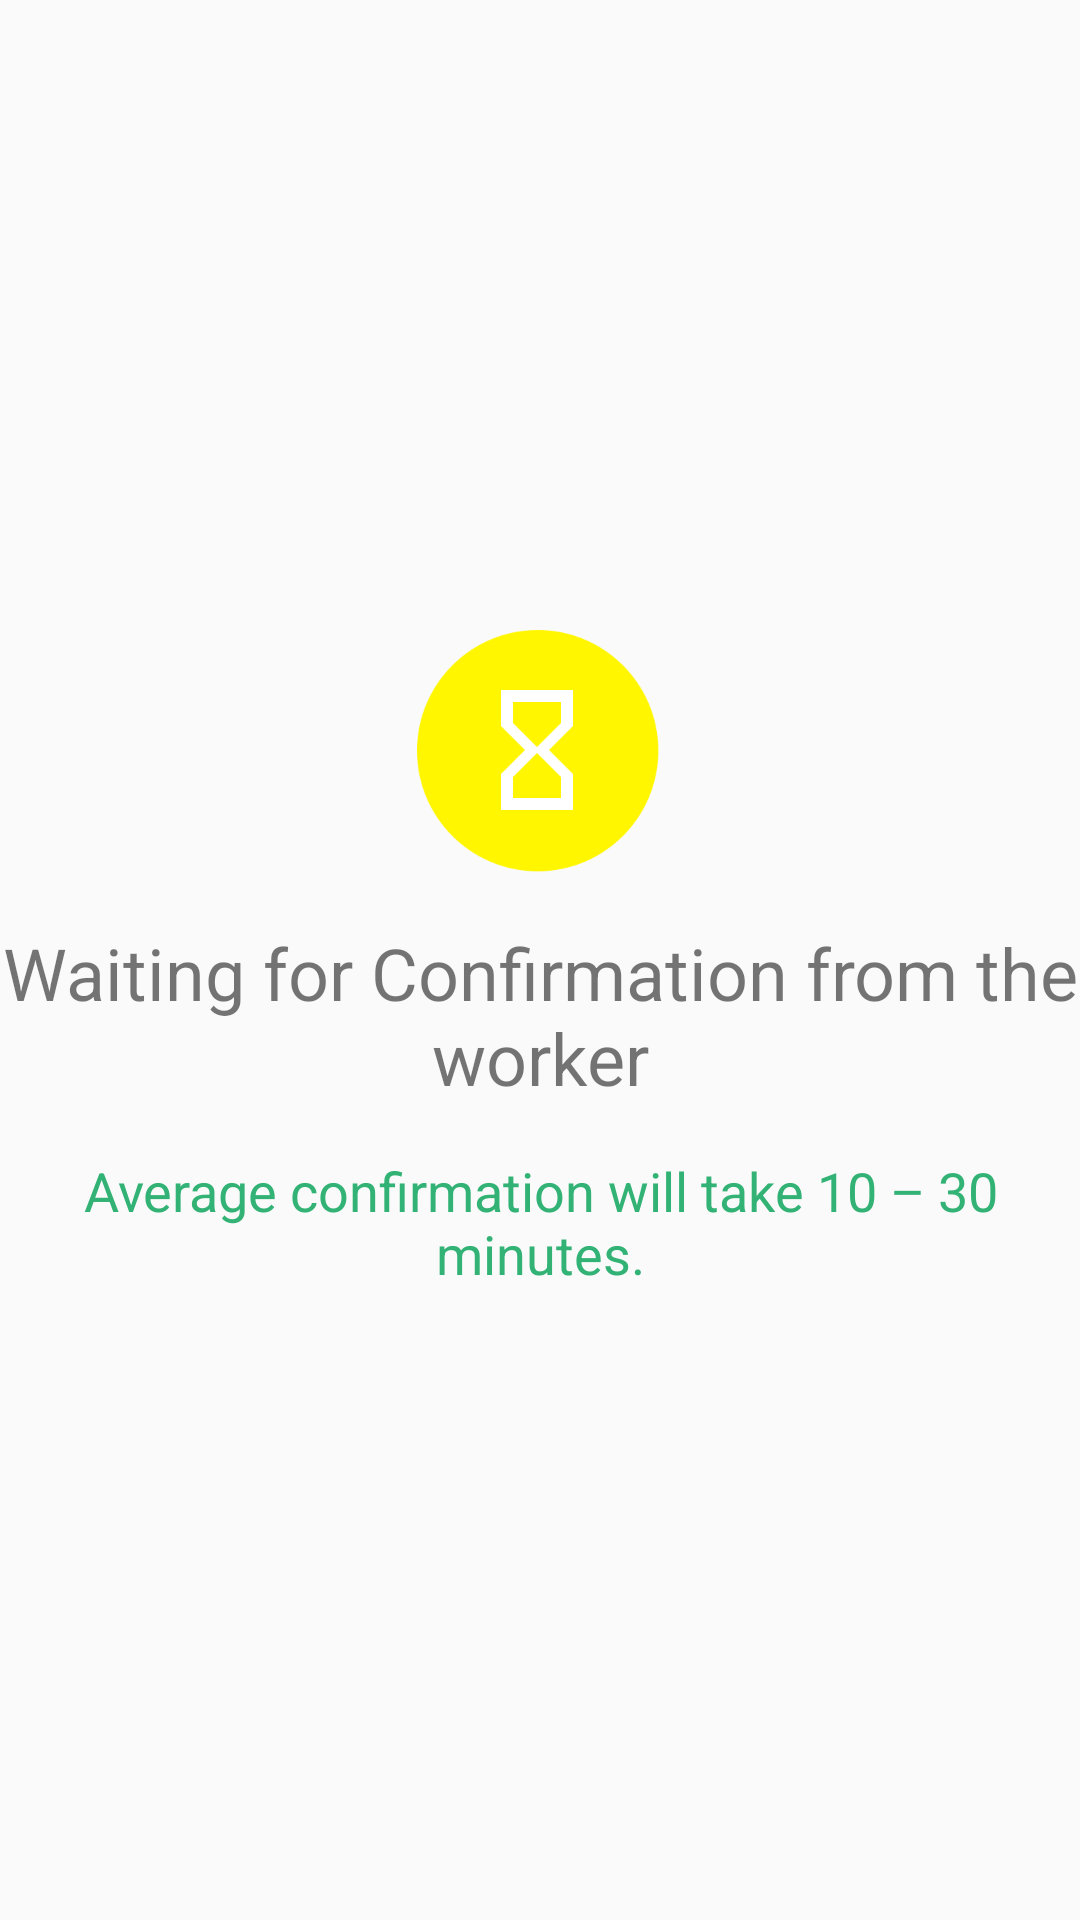

Where to tap for icons on this 1080px x 1920px app screen, as [x,y]:
hourglass: [538,751]
